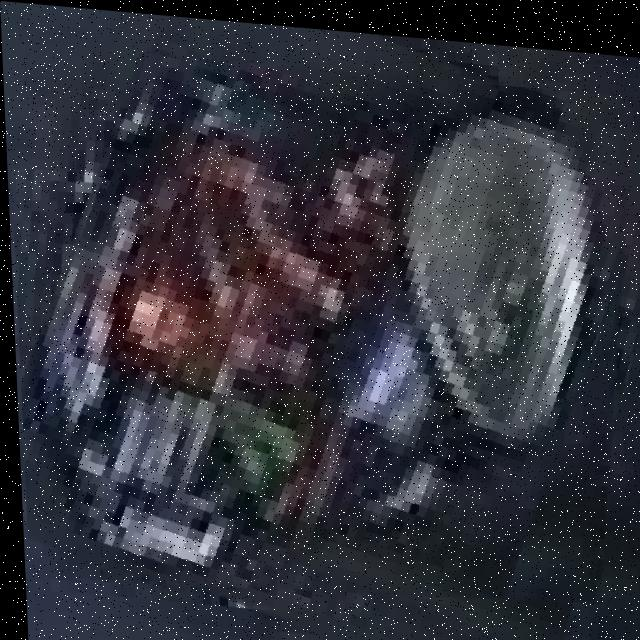litter: (18, 50, 629, 594)
